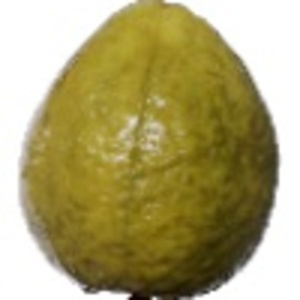goiaba: (12, 2, 285, 295)
